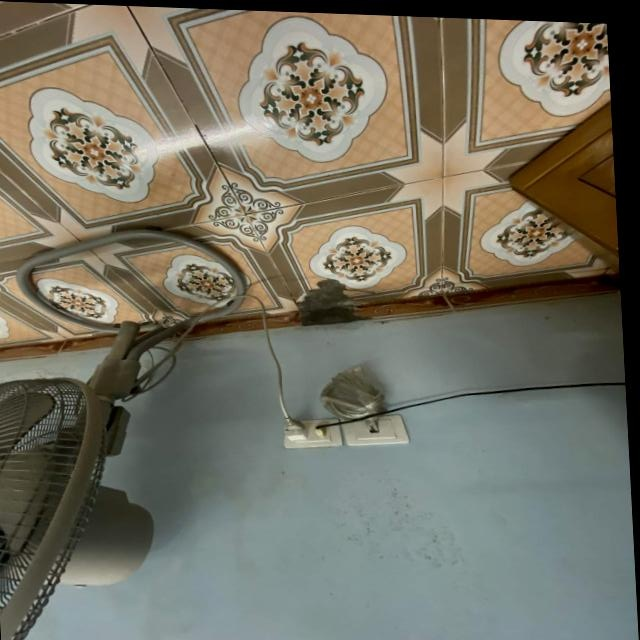outlet: (343, 412, 410, 449), (281, 416, 343, 451)
